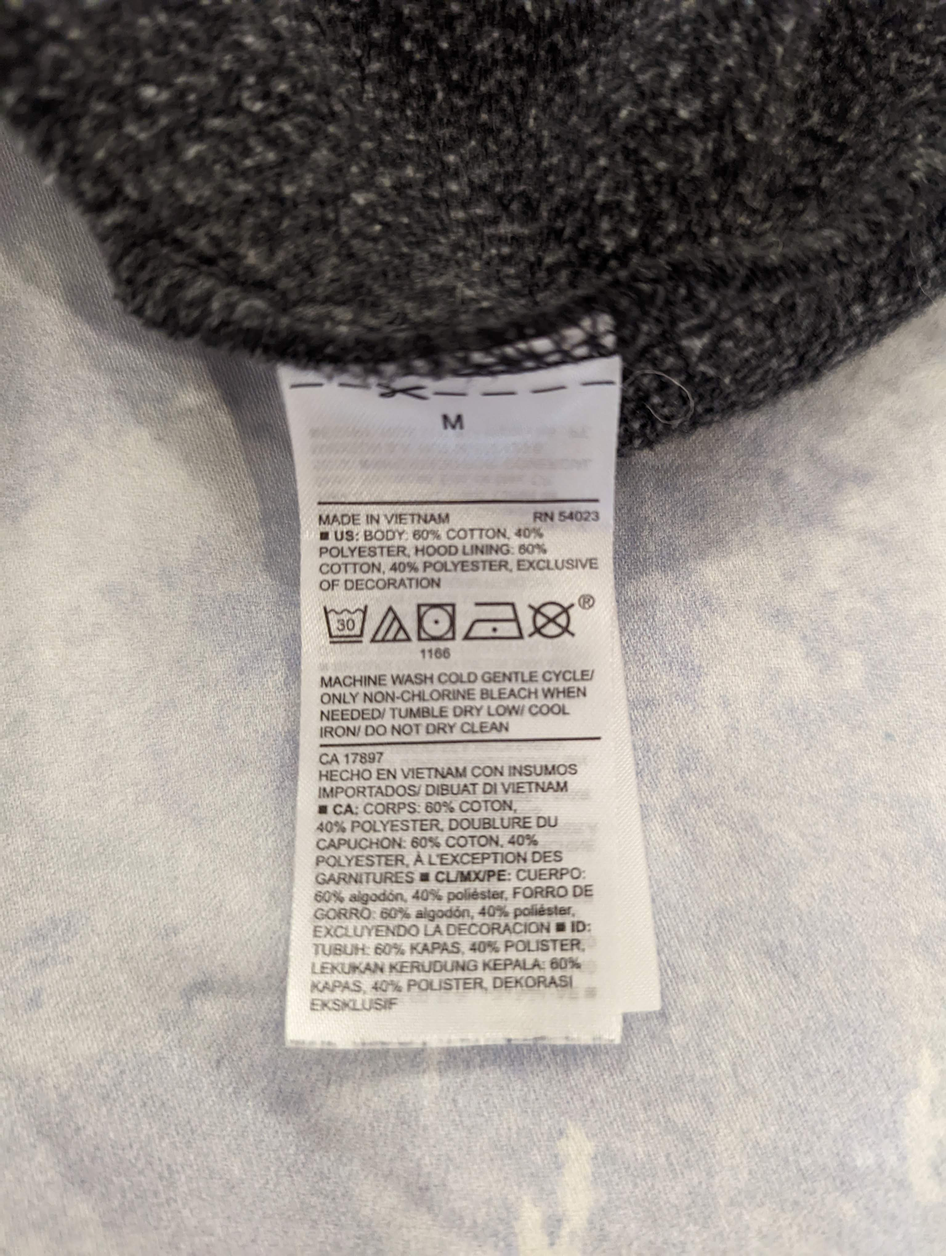ER_iron_low_temp: (462, 599, 526, 642)
ER_no_dry_clean: (526, 597, 577, 643)
ER_non_chlorine_bleach: (370, 604, 415, 646)
ER_tumble_dry_low_heat: (415, 601, 458, 643)
ER_wash_30_mild: (319, 602, 369, 647)
